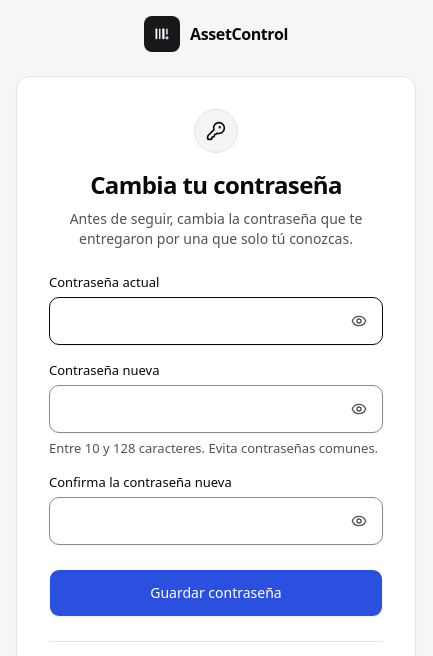
Test case: /cambiar-contrasena: el formulario › demasiados intentos se avisa con la espera
The image size is (433, 656).
Type "Clave-Inicial-Sintetica-2026" into the password field labelled "Contraseña actual".
click(216, 321); type("Clave-Inicial-Sintetica-2026")  # box [49,297,383,345]
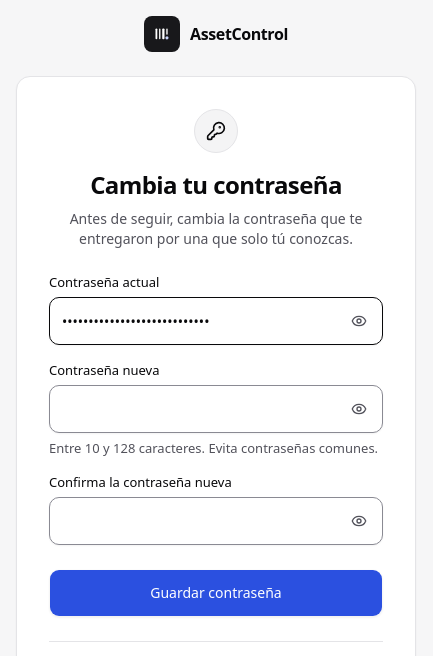
Type "Clave-Nueva-Sintetica-2026" into the password field labelled "Contraseña nueva".
click(216, 409); type("Clave-Nueva-Sintetica-2026")  # box [49,385,383,433]
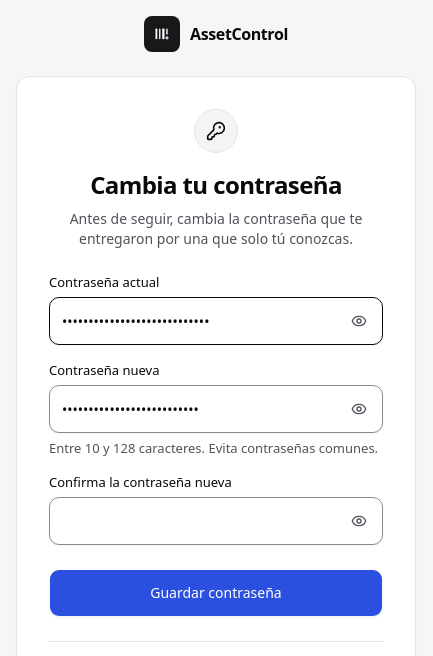
Type "Clave-Nueva-Sintetica-2026" into the password field labelled "Confirma la contraseña nueva".
click(216, 521); type("Clave-Nueva-Sintetica-2026")  # box [49,497,383,545]
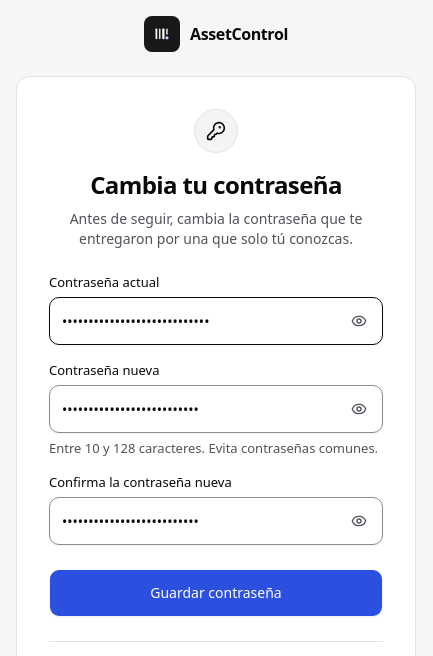
Click the button "Guardar contraseña".
click(216, 593)  # box [49,569,383,617]
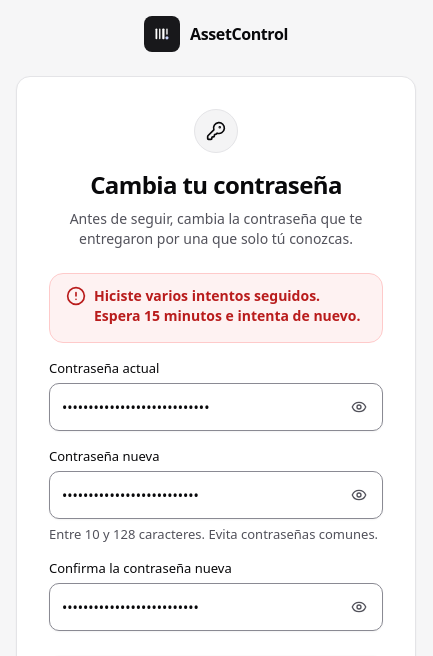
expect the text "Hiciste varios intentos seguidos" is shown: met, box [94,286,360,325]
